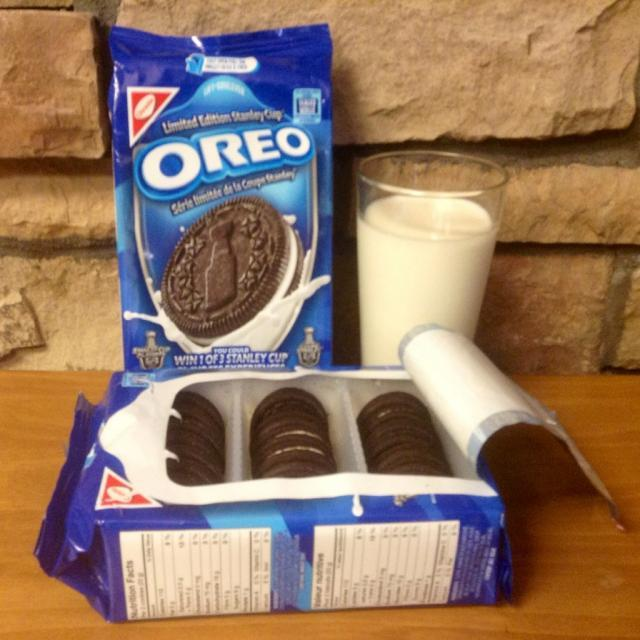Milk: (351, 158, 522, 362), (120, 214, 332, 363)
